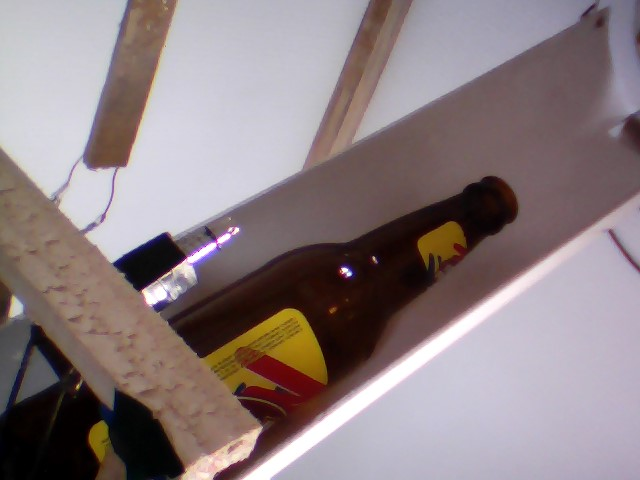vidrio: (190, 170, 537, 459)
